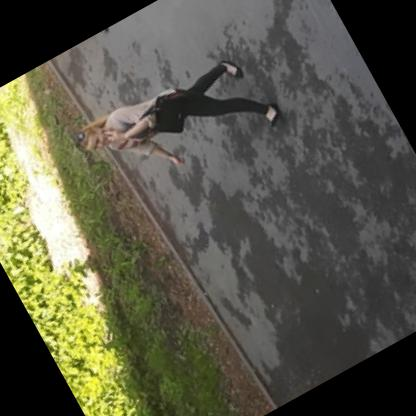Human Body: (63, 33, 292, 222)
